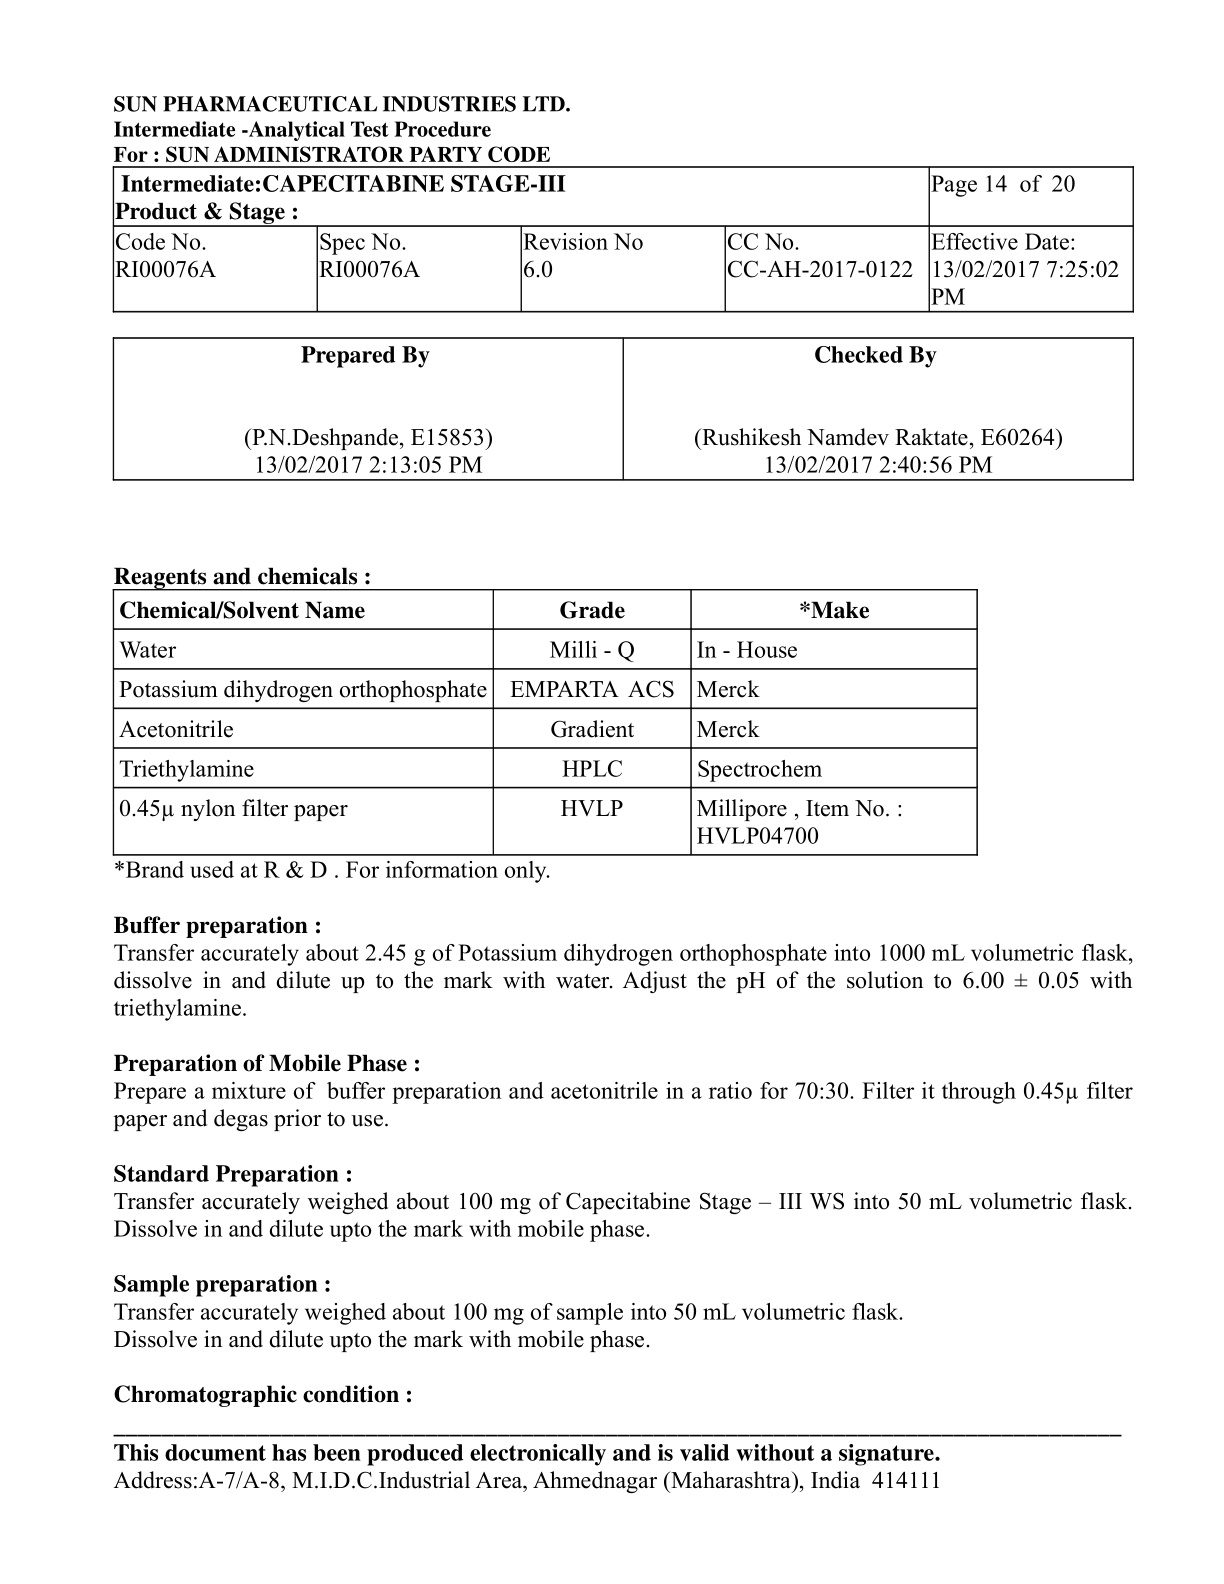full_lined: (112, 589, 978, 858), (112, 336, 1135, 482)
merged_cells: (112, 165, 1135, 312)
